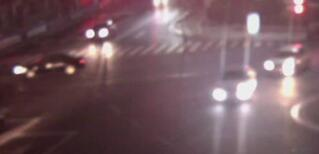car: (12, 52, 87, 83), (211, 68, 258, 104), (263, 46, 308, 77), (85, 20, 117, 39)
